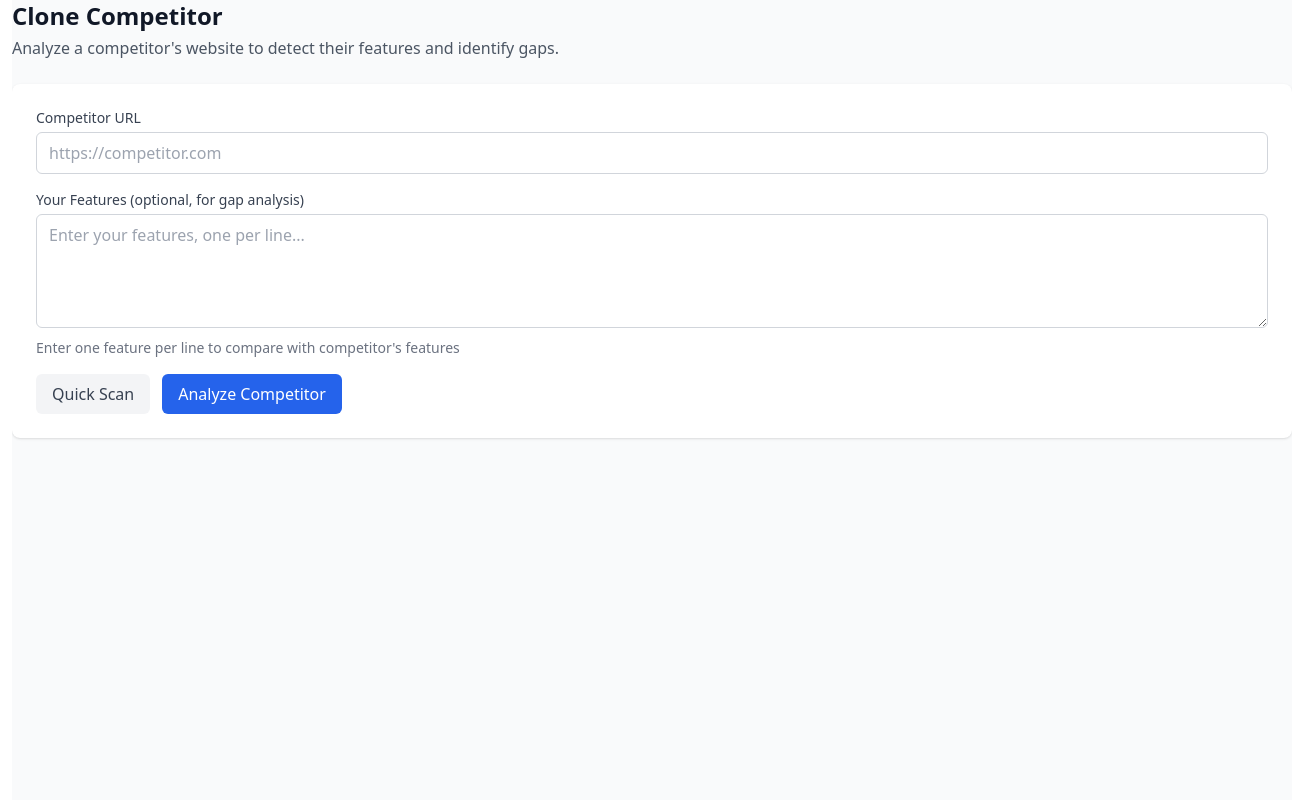
it: ClonePage › should perform quick scan successfully
In the field labelled "Competitor URL": (652, 153) [36,132,1268,174], type "https://test.com"
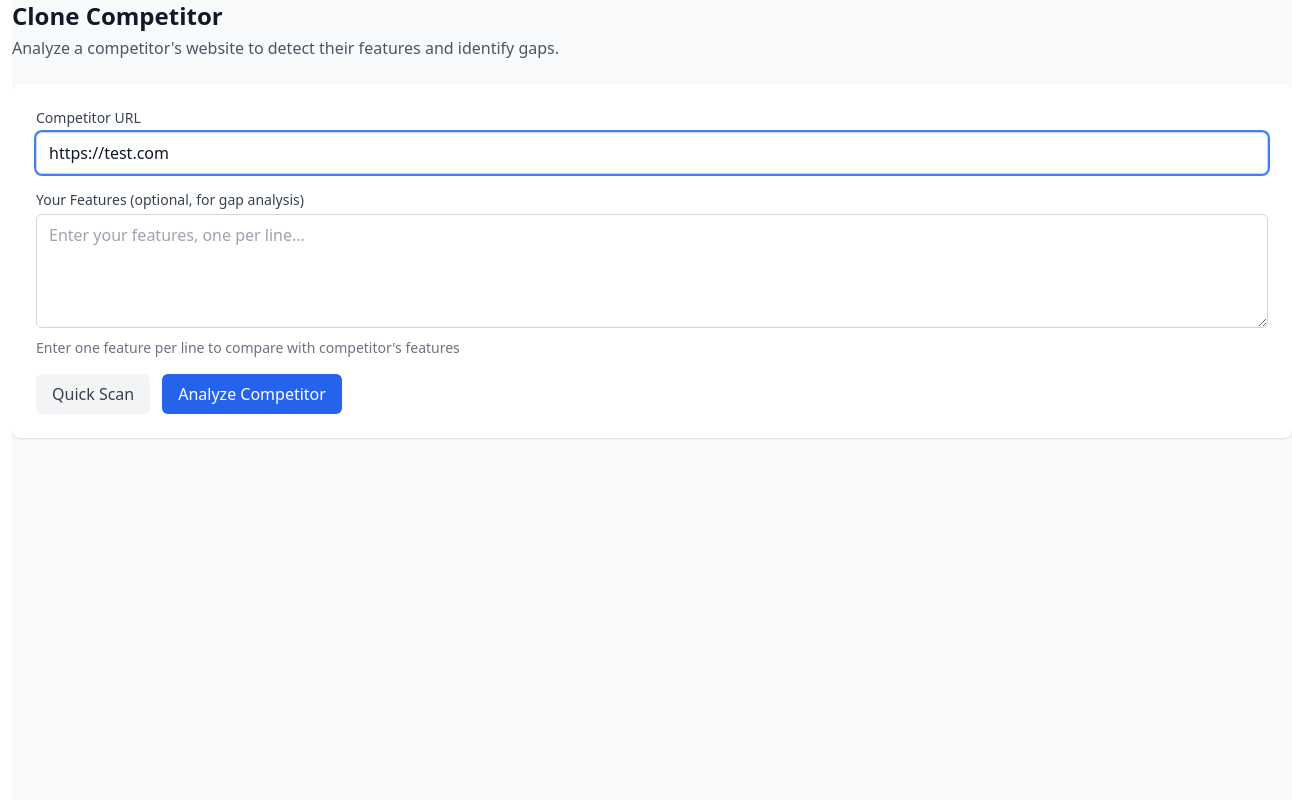
Click the button "Quick Scan": (93, 394) [36,374,150,414]
(page scrolled)
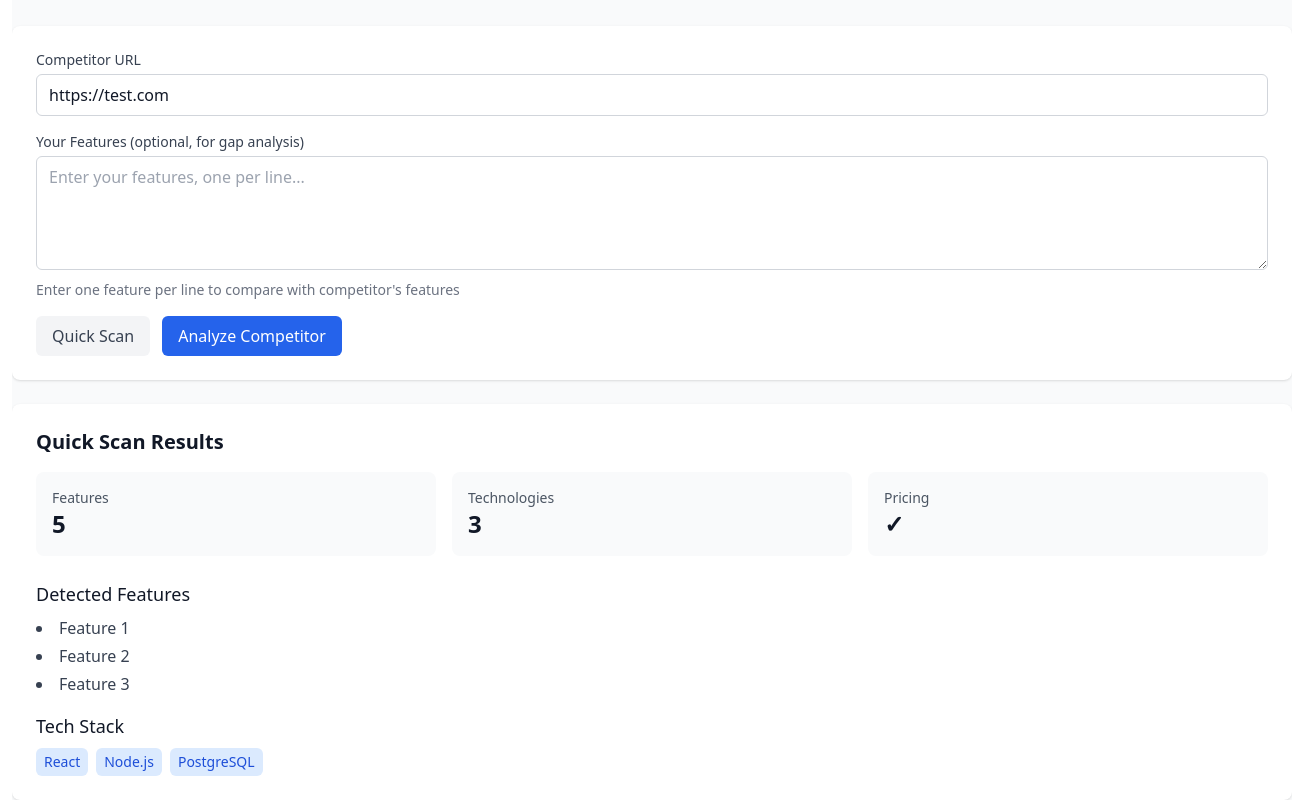
Now the heading "Quick Scan Results" is shown, box [36,428,224,455]
Now the text "5" is shown, box [52,507,66,540]
Now the text "3" is shown, box [468,507,482,540]
